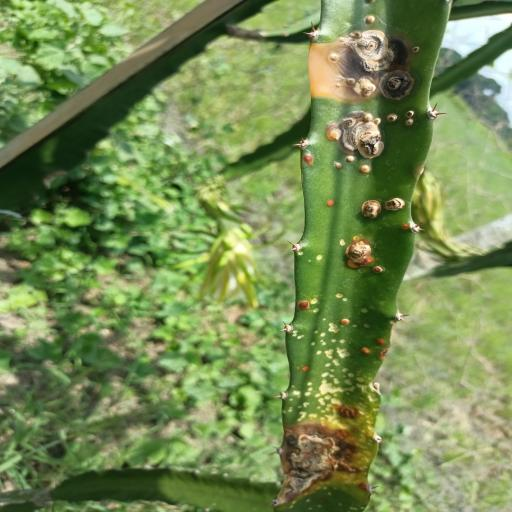stemcanker: (320, 356, 362, 380), (310, 327, 348, 353), (283, 396, 309, 422), (316, 409, 334, 423), (335, 292, 352, 306), (292, 329, 306, 342), (359, 344, 373, 357), (336, 36, 348, 48), (372, 339, 390, 347), (301, 365, 316, 374), (413, 44, 424, 56), (329, 321, 341, 331), (348, 40, 358, 50), (338, 238, 348, 248), (350, 237, 368, 241), (308, 258, 316, 266), (315, 253, 323, 261), (335, 83, 343, 90), (294, 250, 302, 257), (404, 224, 413, 230)
